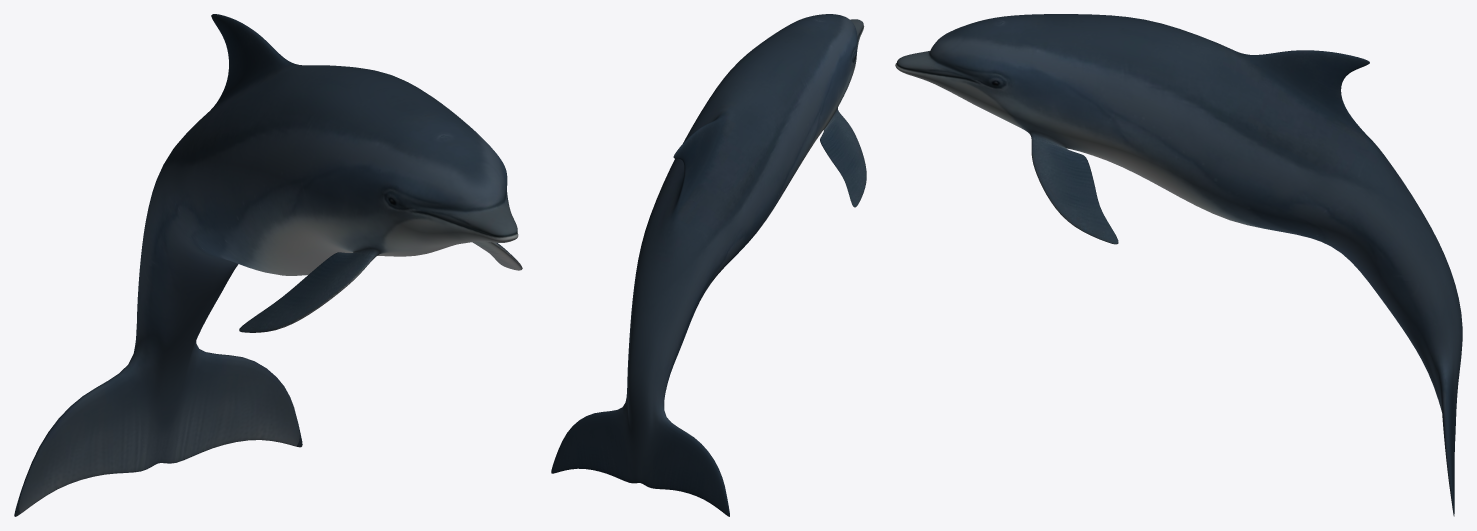
Rendered from delfin.glb.
3 renders of one model, left to right at view 1: azimuth 30°, elevation 25°; view 2: azimuth 150°, elevation 25°; view 3: azimuth 270°, elevation 25°, orthographic. The views are drawn at different scales.
Visible parts, largest first — view 1: dolphin; view 2: dolphin; view 3: dolphin.
Part boxes in pixels (<box>): dolphin: <box>14,14,522,516</box>; dolphin: <box>551,14,866,516</box>; dolphin: <box>895,14,1462,516</box>.
Bounding box in the file's own units: 0.8225 × 1.52 × 1.78.
Materials: 1 (1 with a texture image).
